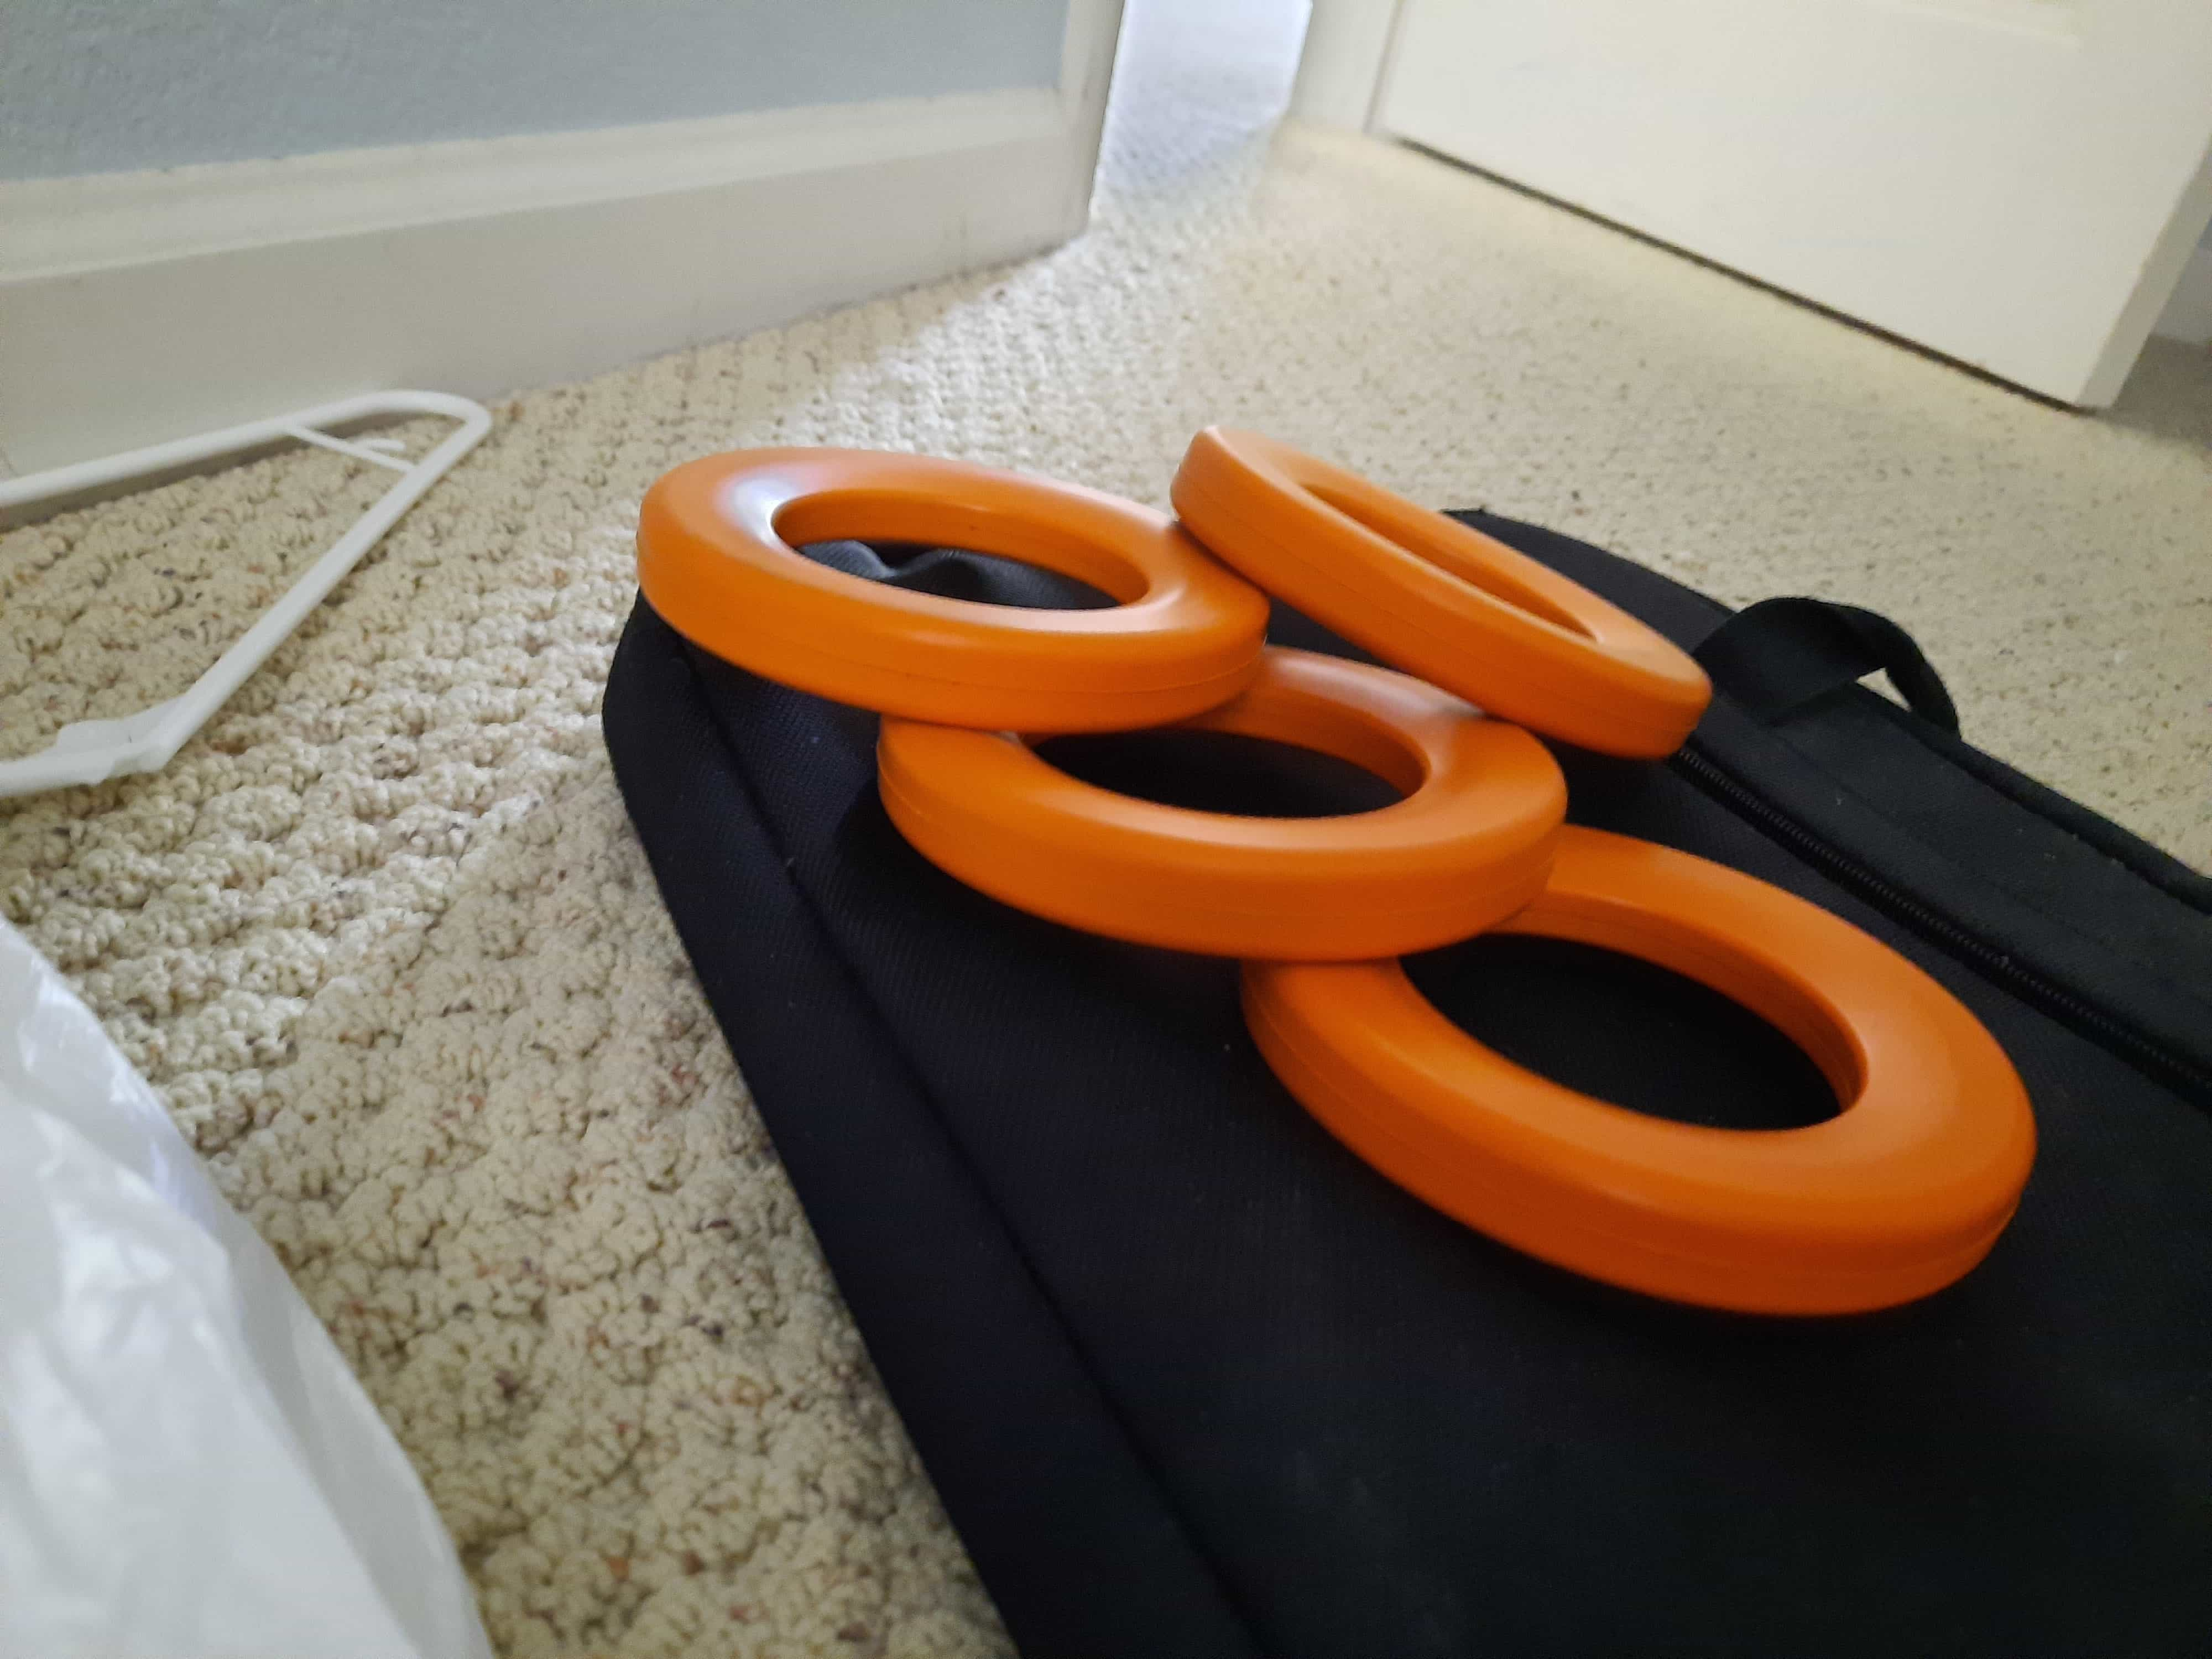OneStack: (1266, 847, 2034, 1324), (1176, 403, 1717, 762), (857, 688, 1566, 955), (634, 427, 1263, 716)
